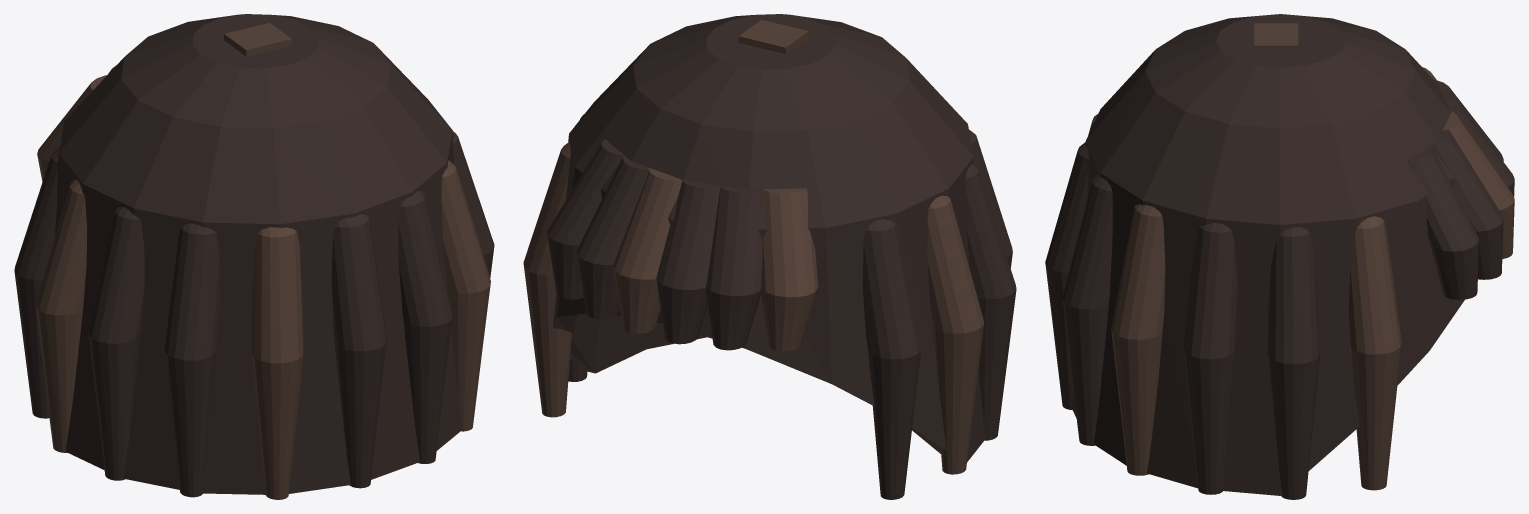
The model's file is CHAR-088.glb.
The picture shows the model from 3 angles, left to right: view 1: azimuth 30°, elevation 25°; view 2: azimuth 150°, elevation 25°; view 3: azimuth 270°, elevation 25°; orthographic projection. The views are drawn at different scales.
Parts seen in each view (by area): view 1: 齐耳中短发母版; view 2: 齐耳中短发母版; view 3: 齐耳中短发母版.
Boxes of the visible parts, x1,y1,x2,y2 form: 齐耳中短发母版: (14, 14, 494, 499); 齐耳中短发母版: (523, 14, 1016, 499); 齐耳中短发母版: (1045, 14, 1514, 499).
Bounding box in the file's own units: 0.2755 × 0.233 × 0.2672.
Materials: 2 (2 with a texture image).
